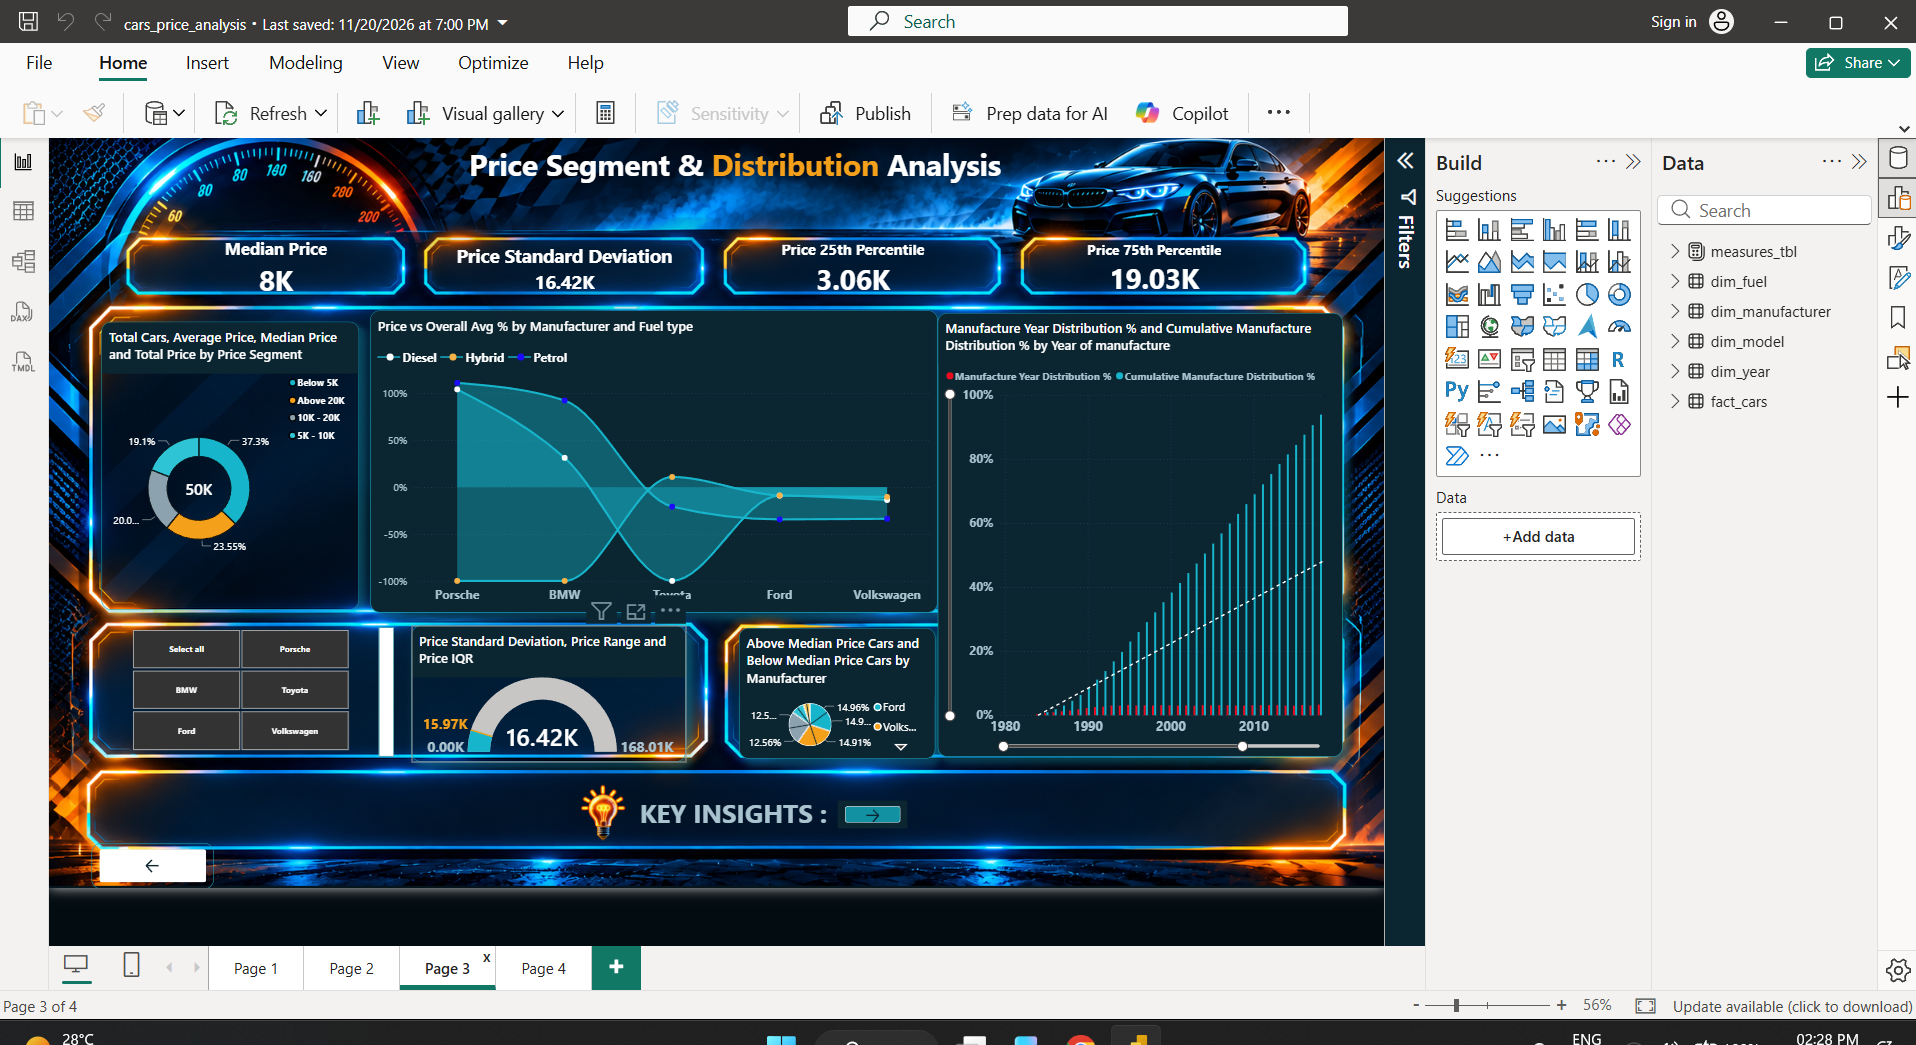

This screenshot's page, from the dashboard's own definition file:
{"tool":"powerbi","page":{"name":"Page 3","canvas":[1920,1080],"ordinal":2},"visuals":[{"type":"areaChart","fields":{"Category":["dim_manufacturer.Manufacturer"],"Series":["dim_fuel.Fuel type"],"Y":["measures_tbl.Price vs Overall Avg %"]},"box":[462,248,816,434],"z":0},{"type":"cardVisual","fields":{"Data":["measures_tbl.Median Price"]},"box":[134,114,383,149],"z":1000},{"type":"cardVisual","fields":{"Data":["measures_tbl.Price Standard Deviation"]},"box":[505.7,105.7,472.9,164.3],"z":2000},{"type":"cardVisual","fields":{"Data":["measures_tbl.Price 25th Percentile"]},"box":[1011.1,145.6,292.2,85.6],"z":3000},{"type":"cardVisual","fields":{"Data":["measures_tbl.Price 75th Percentile"]},"box":[1442.9,145.7,292.2,85.6],"z":4000},{"type":"donutChart","fields":{"Category":["fact_cars.Price Segment"],"Y":["measures_tbl.Total Cars"]},"box":[76,264,370,414],"z":5000},{"type":"textbox","box":[550,0,1066,84],"z":6000},{"type":"actionButton","box":[62,1014,176,66],"z":7000},{"type":"gauge","fields":{"MaxValue":["measures_tbl.Price Range"],"TargetValue":["measures_tbl.Price IQR"],"Y":["measures_tbl.Price Standard Deviation"]},"box":[522,702,394,196],"z":8000},{"type":"shape","box":[464,696,42,202],"z":9000},{"type":"slicer","fields":{"Values":["dim_model.Manufacturer"]},"box":[90,698,370,192],"z":10000},{"type":"pieChart","fields":{"Category":["dim_manufacturer.Manufacturer"],"Y":["measures_tbl.Above Median Price Cars","measures_tbl.Below Median Price Cars"]},"box":[992,704,282,188],"z":11000},{"type":"clusteredColumnChart","fields":{"Category":["fact_cars.Year of manufacture"],"Y":["measures_tbl.Manufacture Year Distribution %","measures_tbl.Cumulative Manufacture Distribution %"]},"box":[1278,252,582,638],"z":12000},{"type":"image","box":[678,922,238,98],"z":12001},{"type":"textbox","box":[840,936,434,78],"z":12002},{"type":"actionButton","box":[1134,952,100,40],"z":12003}]}

Visuals, with their boxes on the page's 1920x1080 design canvas (x1, y1, x2, y2). These are canvas units, not pixel positions in the 1916x1045 screenshot, which may show the page scaled, cropped or inside an application window:
areaChart - dim_manufacturer.Manufacturer x dim_fuel.Fuel type: left=462, top=248, right=1278, bottom=682
cardVisual - measures_tbl.Median Price: left=134, top=114, right=517, bottom=263
cardVisual - measures_tbl.Price Standard Deviation: left=506, top=106, right=979, bottom=270
cardVisual - measures_tbl.Price 25th Percentile: left=1011, top=146, right=1303, bottom=231
cardVisual - measures_tbl.Price 75th Percentile: left=1443, top=146, right=1735, bottom=231
donutChart - fact_cars.Price Segment x measures_tbl.Total Cars: left=76, top=264, right=446, bottom=678
textbox: left=550, top=0, right=1616, bottom=84
actionButton: left=62, top=1014, right=238, bottom=1080
gauge - measures_tbl.Price Range x measures_tbl.Price IQR: left=522, top=702, right=916, bottom=898
shape: left=464, top=696, right=506, bottom=898
slicer - dim_model.Manufacturer: left=90, top=698, right=460, bottom=890
pieChart - dim_manufacturer.Manufacturer x measures_tbl.Above Median Price Cars: left=992, top=704, right=1274, bottom=892
clusteredColumnChart - fact_cars.Year of manufacture x measures_tbl.Manufacture Year Distribution %: left=1278, top=252, right=1860, bottom=890
image: left=678, top=922, right=916, bottom=1020
textbox: left=840, top=936, right=1274, bottom=1014
actionButton: left=1134, top=952, right=1234, bottom=992
